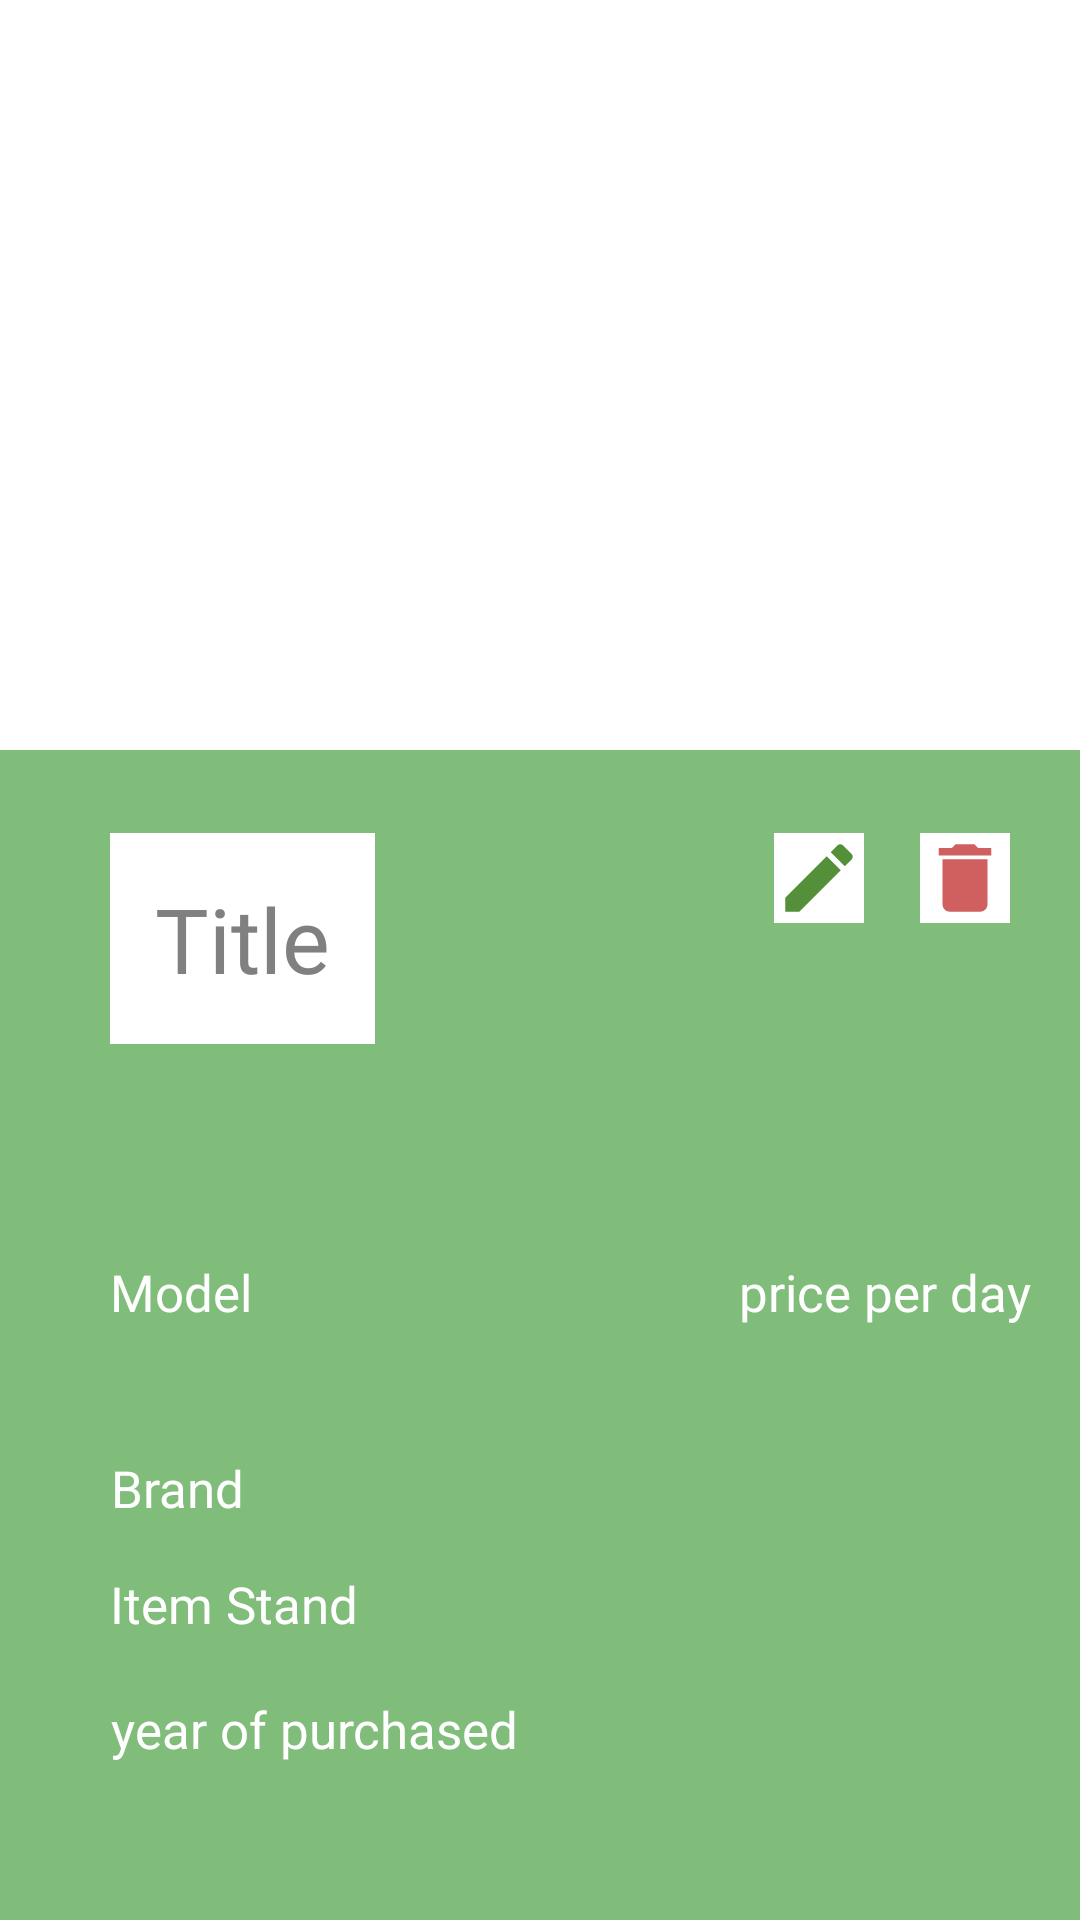

Screen size 1080 x 1920. Icon name, then its box in pixels as bbox=(x1, y1, x2, y2):
delete: bbox=(920, 833, 1010, 923)
edit: bbox=(774, 833, 864, 923)
